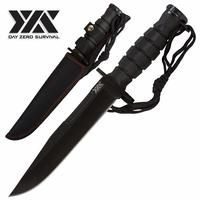knife: (6, 3, 192, 198), (3, 1, 124, 144)
